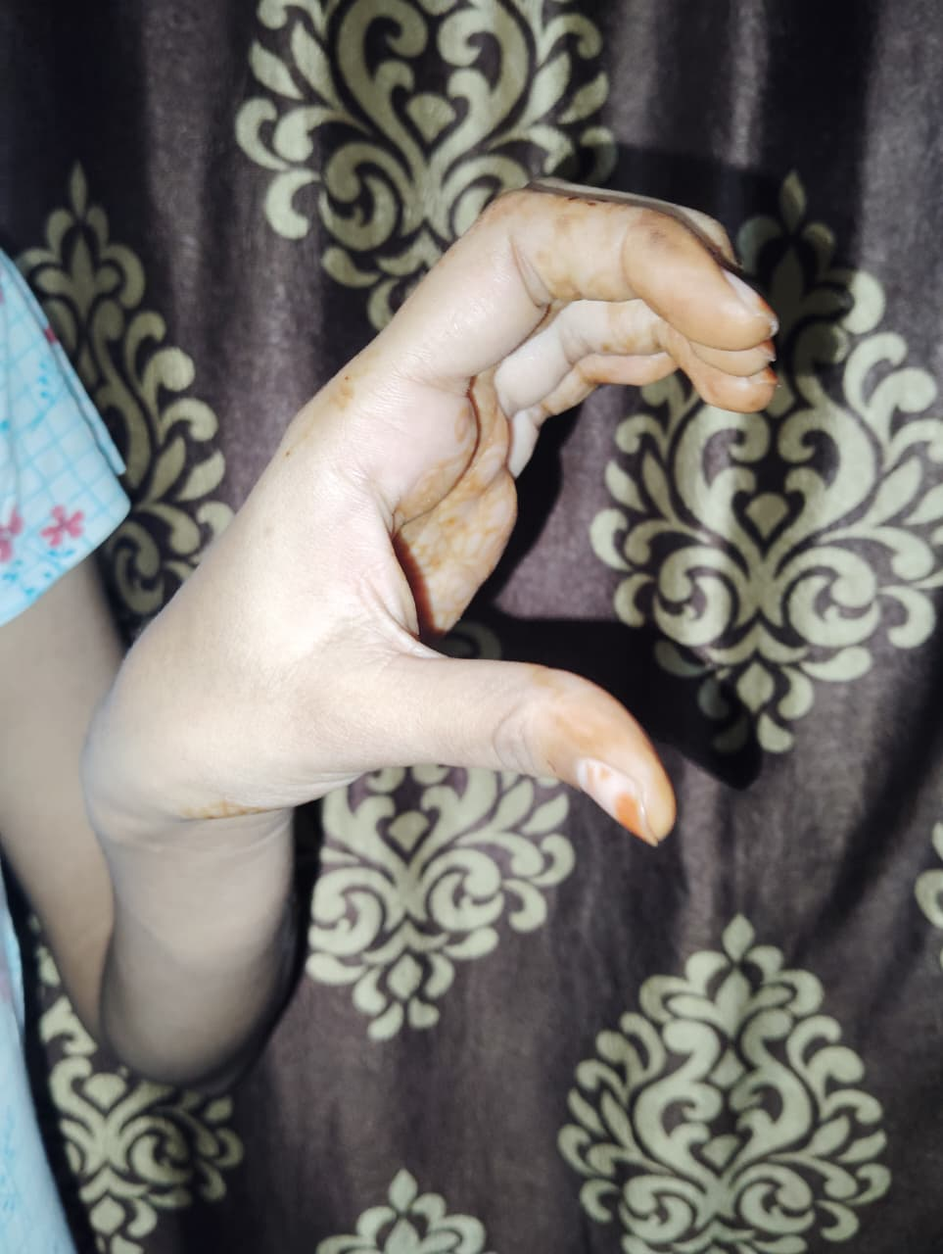C: (233, 176, 779, 845)
